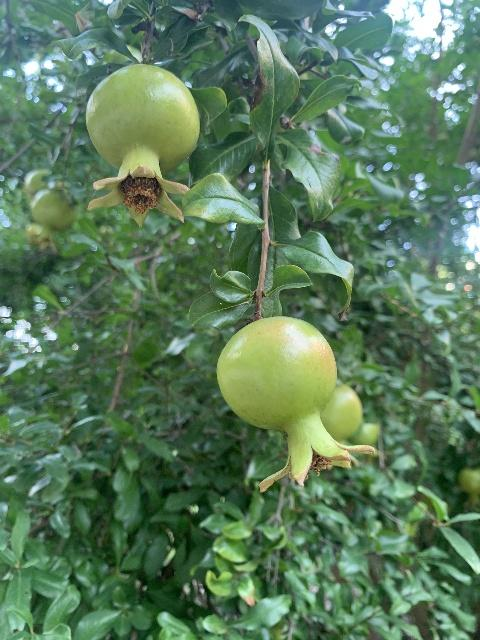mid-growth: (215, 315, 375, 492), (85, 63, 200, 227), (319, 384, 363, 469), (25, 188, 75, 251), (347, 422, 392, 466), (459, 468, 480, 506)
